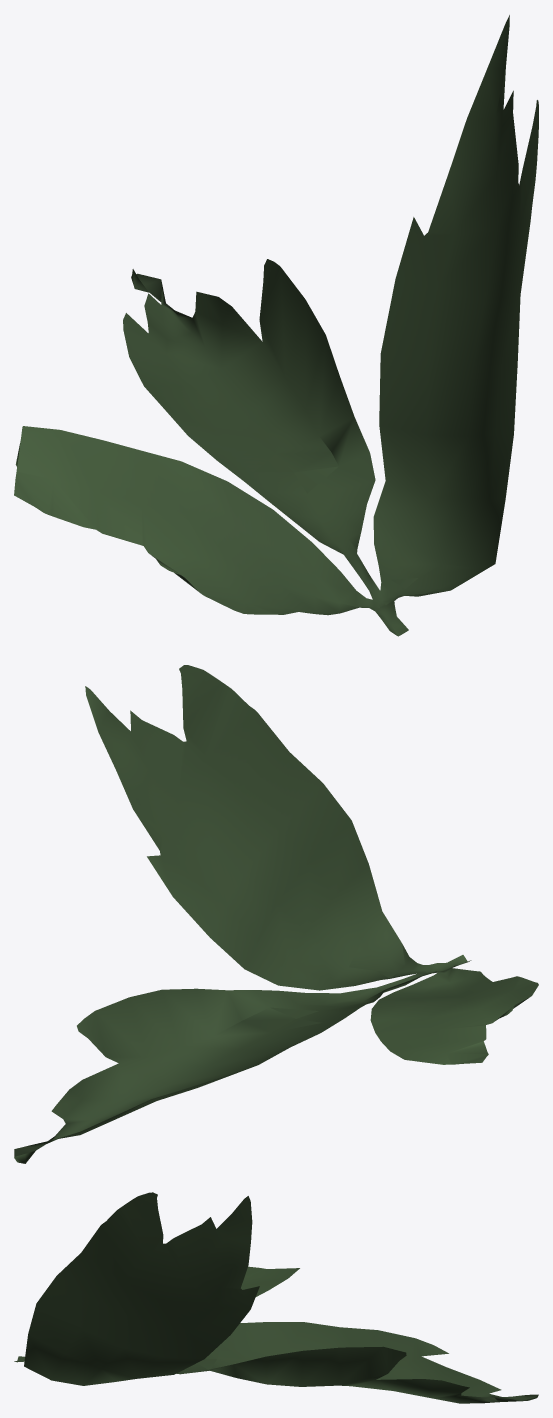
File: trees-leaves-leaf-cluster_v4.glb
The picture shows the model from 3 angles, top to bottom: view 1: azimuth 30°, elevation 25°; view 2: azimuth 150°, elevation 25°; view 3: azimuth 270°, elevation 25°; orthographic projection. The views are drawn at different scales.
Parts seen in each view (by area): view 1: Leaf Cluster_v4; view 2: Leaf Cluster_v4; view 3: Leaf Cluster_v4.
Boxes of the visible parts, x1,y1,x2,y2 form: Leaf Cluster_v4: (14, 15, 538, 636); Leaf Cluster_v4: (14, 665, 538, 1163); Leaf Cluster_v4: (14, 1192, 538, 1403).
Bounding box in the file's own units: 0.1024 × 0.081 × 0.15.
